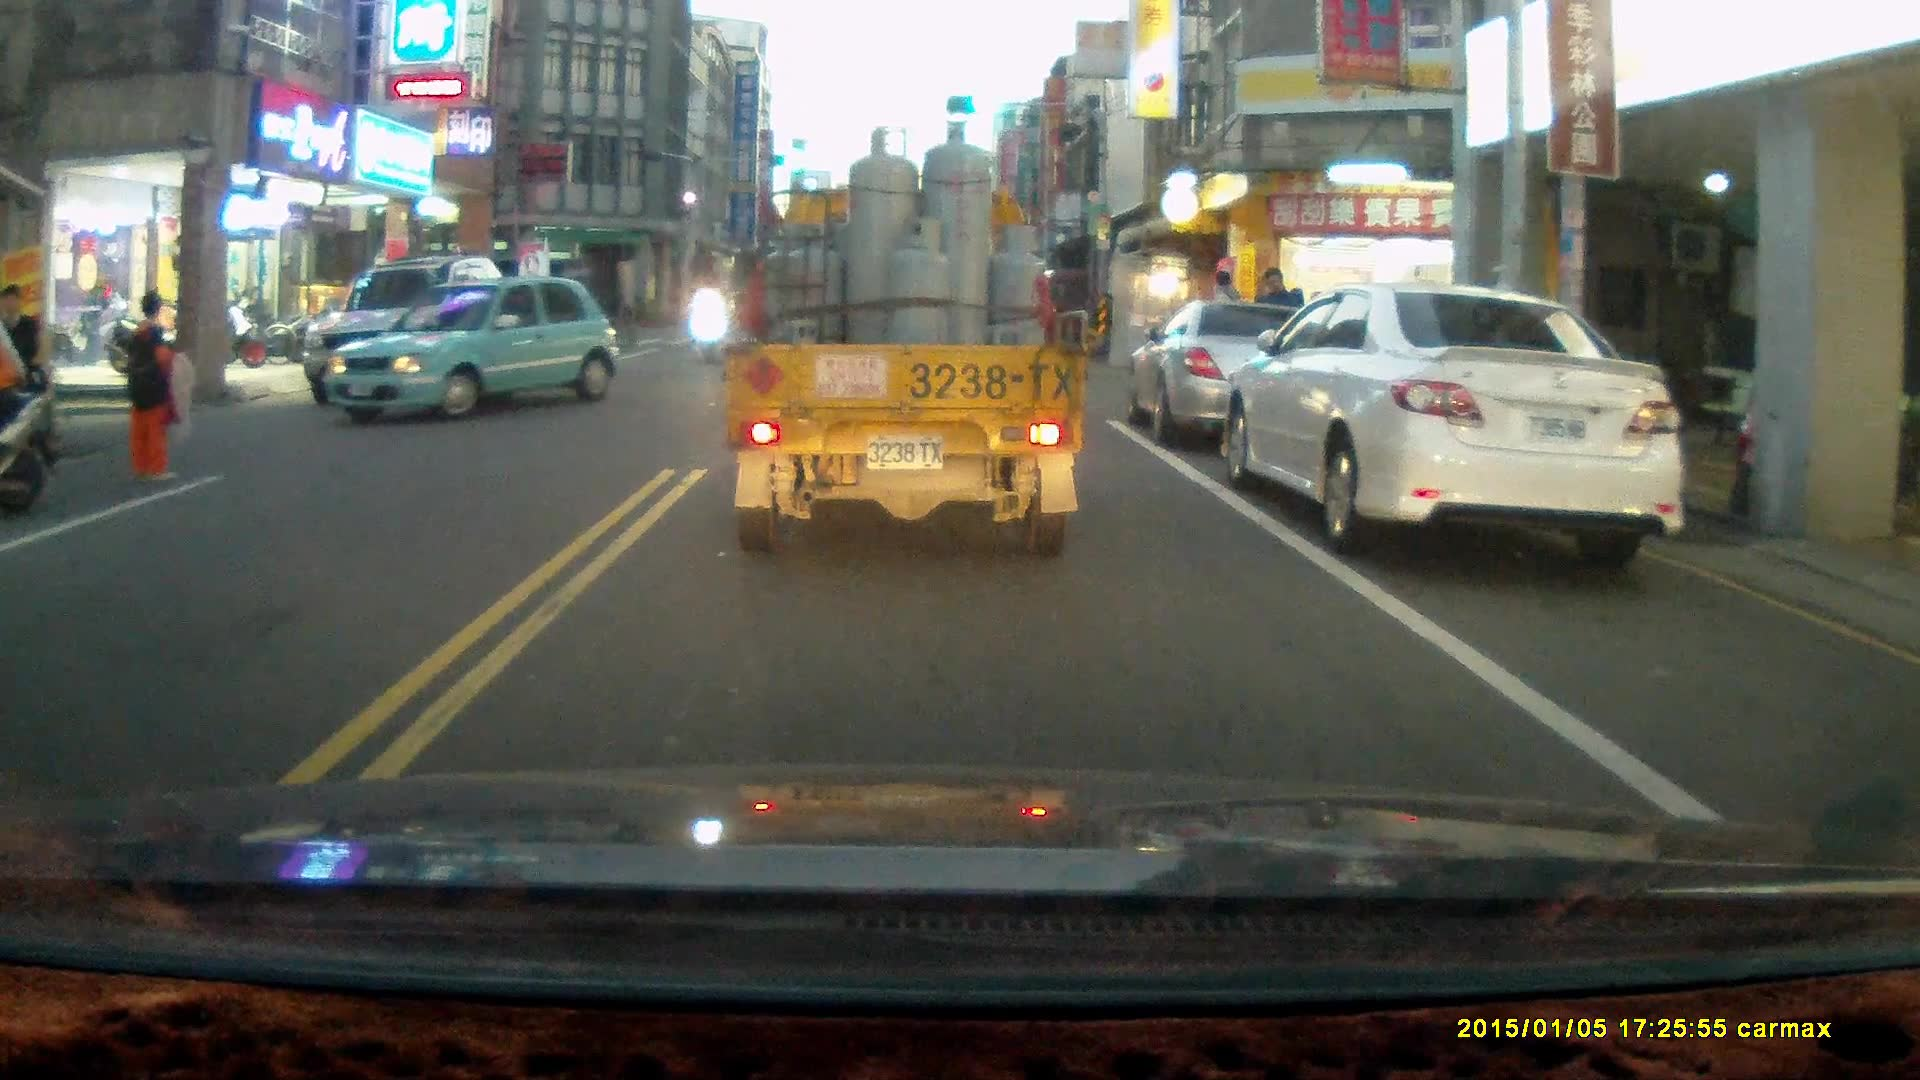pedestrian: (117, 289, 201, 484), (3, 283, 47, 449)
rider: (691, 278, 721, 364)
vehicle: (722, 122, 1085, 561), (1226, 281, 1692, 571), (1130, 298, 1411, 453), (329, 277, 618, 425)
